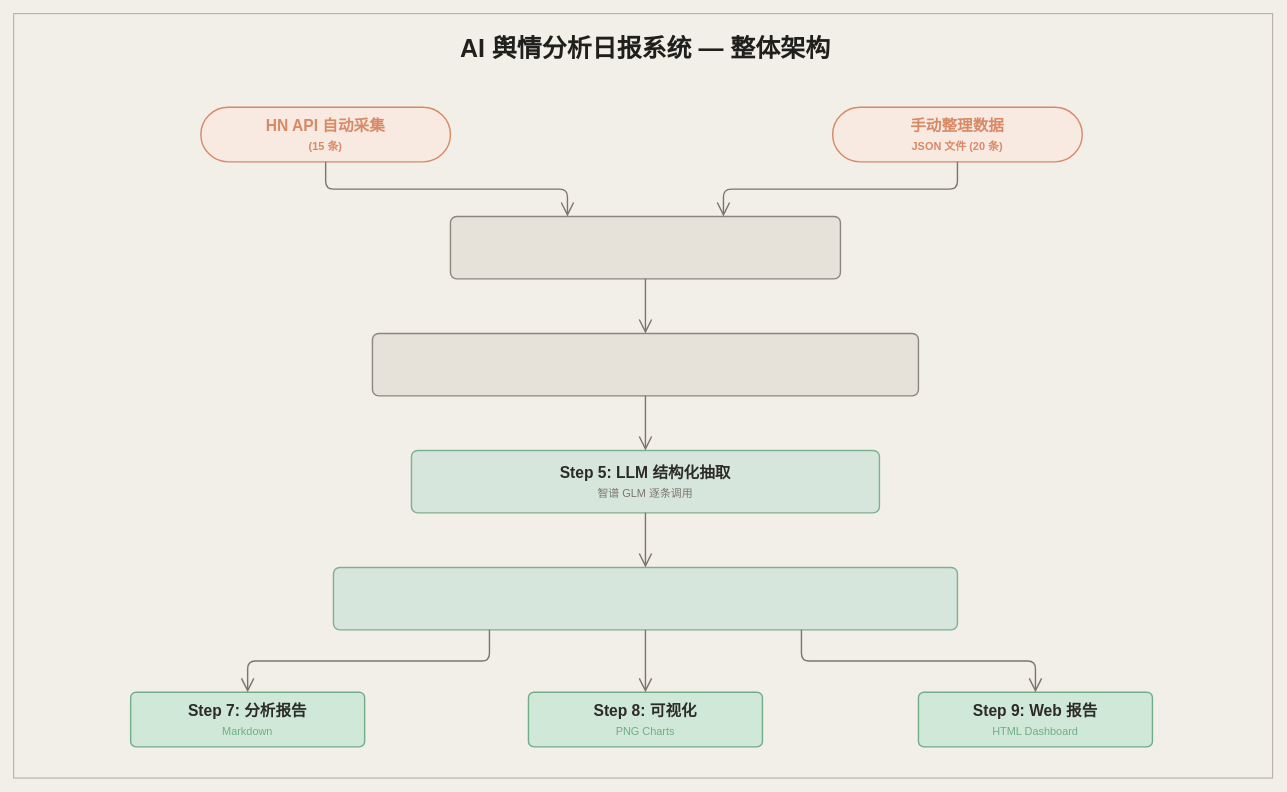
The diagram is 1287 pixels wide and 792 high, and some of its shapes have lost their labels. The centre of each missing label's shape, as x and y in pixels:
"Step 3: 合并 按 ID 去重" belongs at [645,247].
"Step 4: 数据清洗 标准化 → 补全 → 去重 → 噪声过滤" belongs at [645,364].
"Step 6: 事件聚类 + 排序 规则预分组 → LLM 精细合并 · 热点打分" belongs at [645,598].
